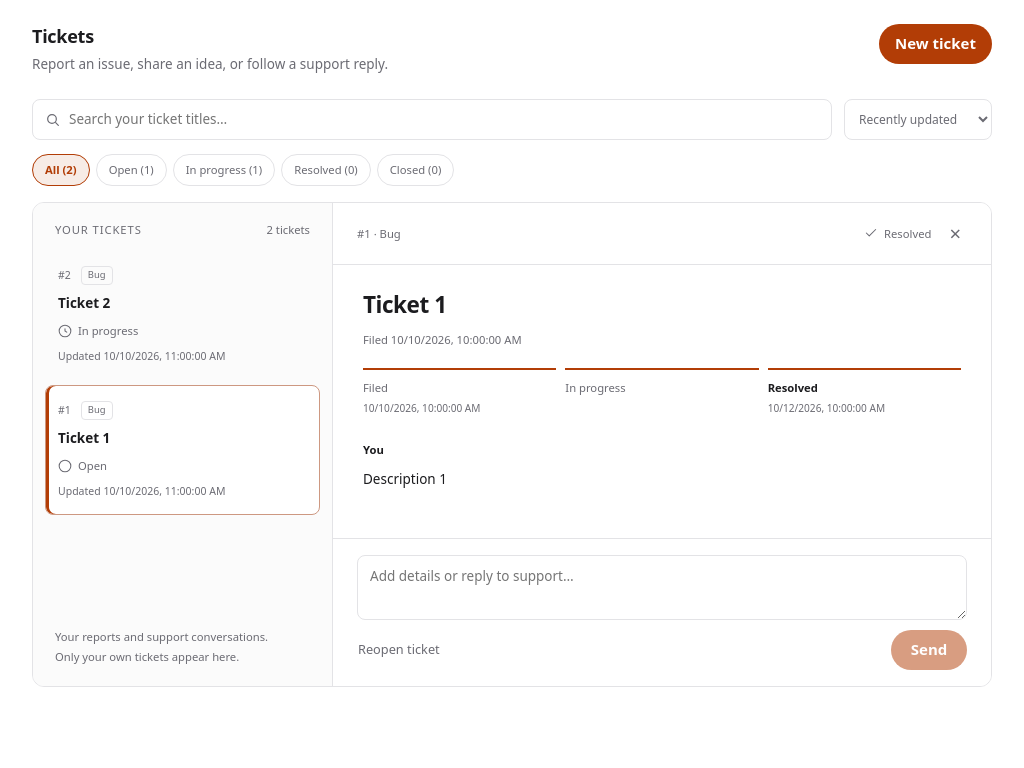
Test: TicketsView › shows character counts and a dated status timeline without inventing a progress date
The image size is (1024, 768).
Expected: the list item "Resolved 10/12/2026, 10:00:00 AM" is shown, 768,368 -> 961,417
Click the button "New ticket".
click(936, 44)  # box 879,24 -> 992,64
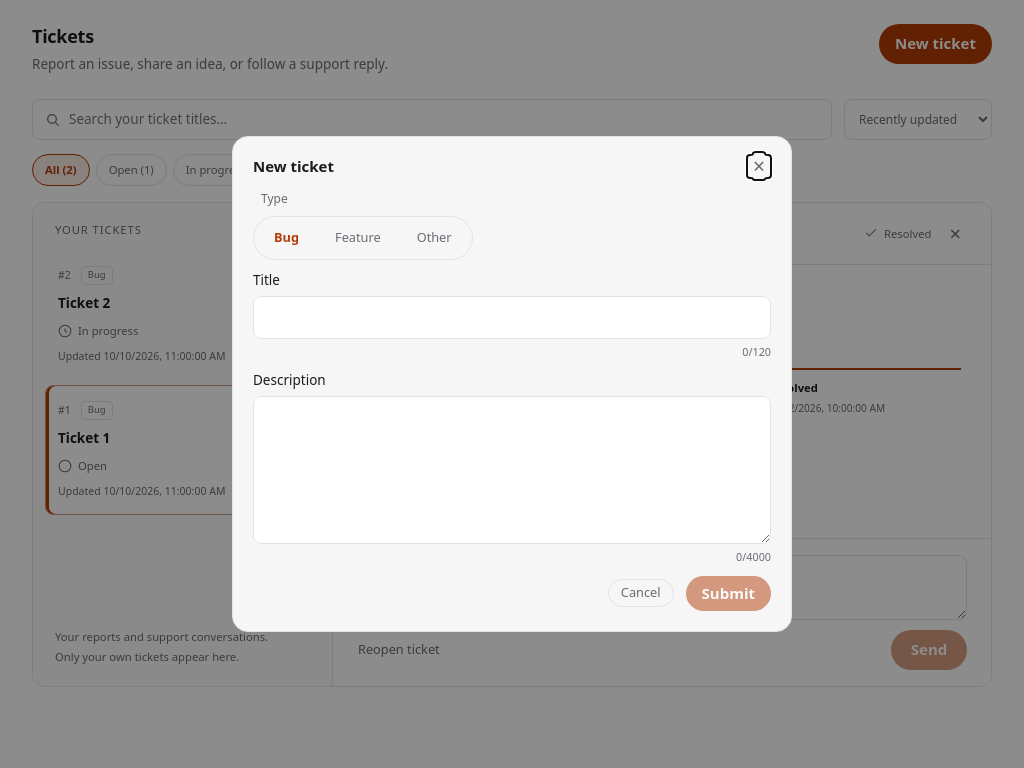
Type "Title" into the field named "Title".
click(512, 317); type("Title")  # box 253,296 -> 771,339
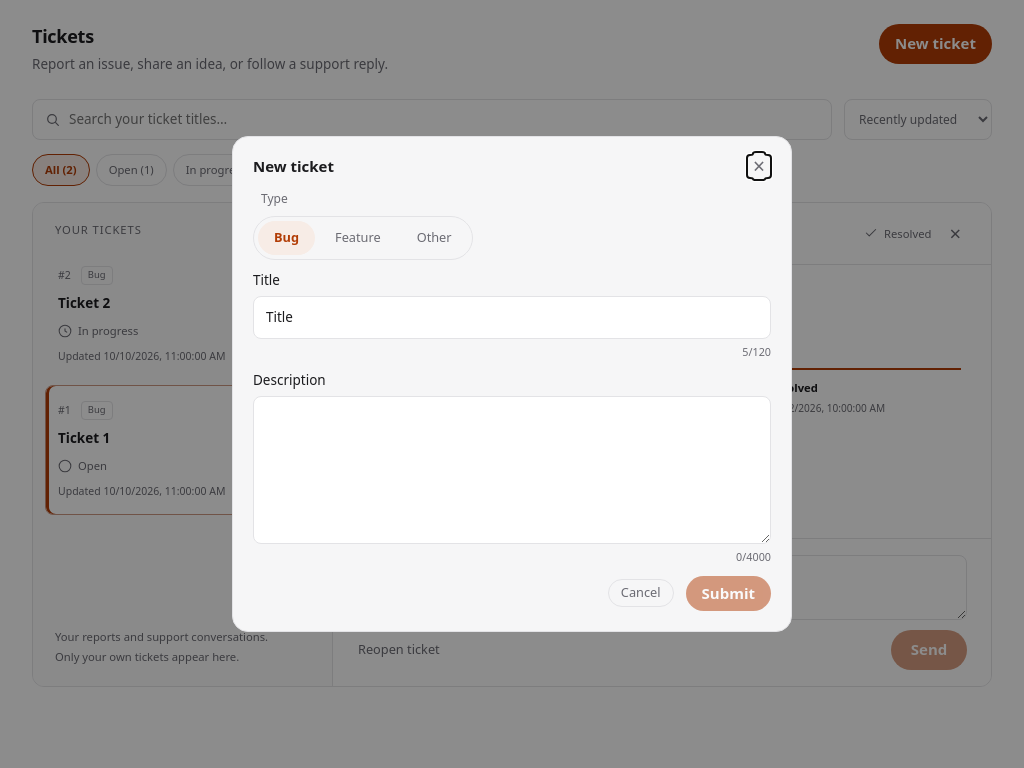
Type "Details" into the text box named "Description".
click(512, 470); type("Details")  # box 253,396 -> 771,544
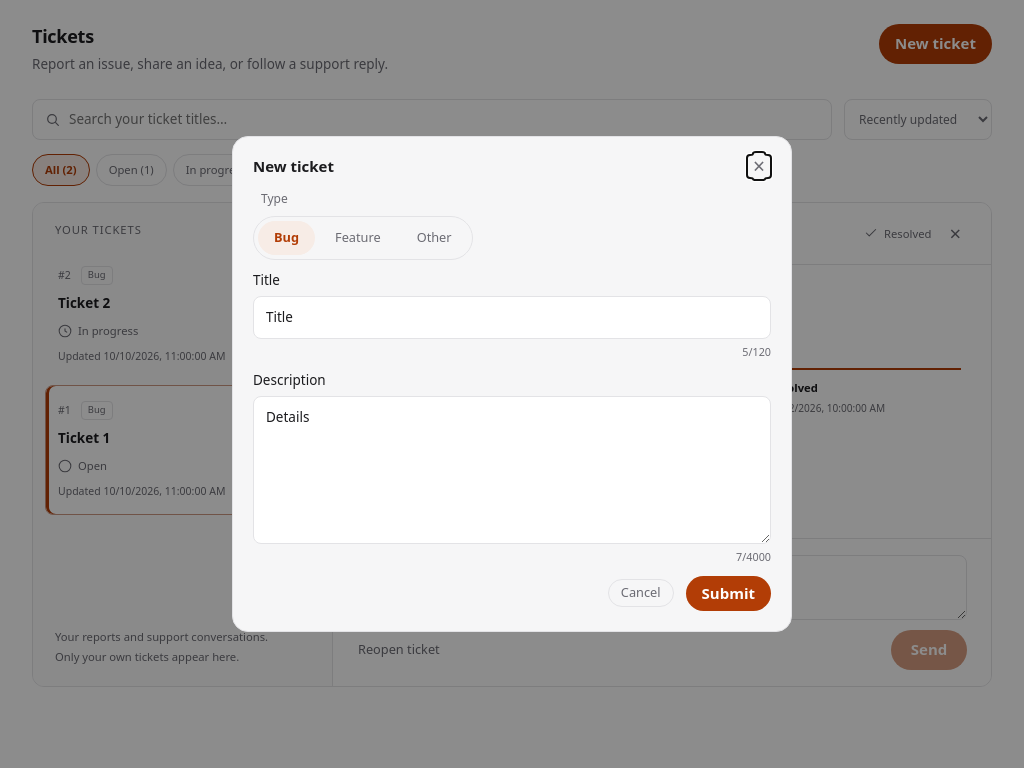
Expected: the text with id "ticket-title-count" reads "5/120", 742,344 -> 771,359
Expected: the text with id "ticket-description-count" reads "7/4000", 736,549 -> 771,564
